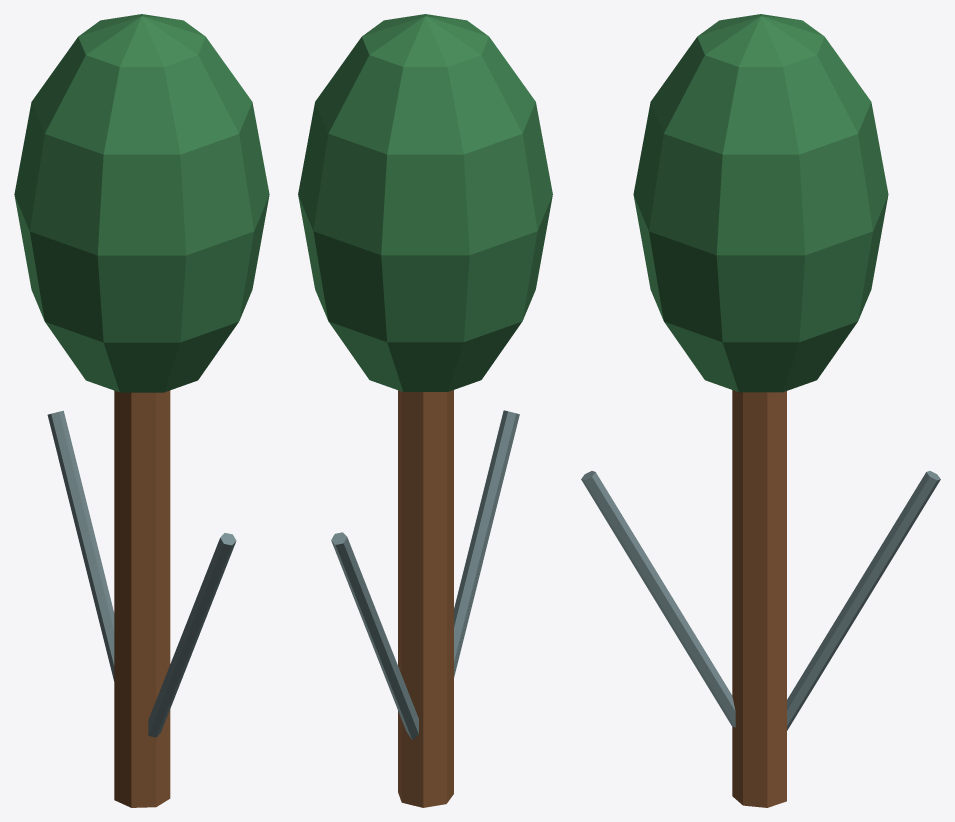
The model's file is tree_young.glb.
3 renders of one model, left to right at view 1: azimuth 30°, elevation 25°; view 2: azimuth 150°, elevation 25°; view 3: azimuth 270°, elevation 25°, orthographic.
Parts seen in each view (by area): view 1: rough, metallic; view 2: rough, metallic; view 3: rough, metallic.
Boxes of the visible parts, x1,y1,x2,y2 form: rough: [14, 14, 269, 807]; metallic: [47, 410, 236, 737]; rough: [298, 14, 552, 807]; metallic: [331, 410, 519, 740]; rough: [633, 14, 888, 807]; metallic: [581, 471, 940, 730].
Bounding box in the file's own units: 1.05 × 3.59 × 1.5.
